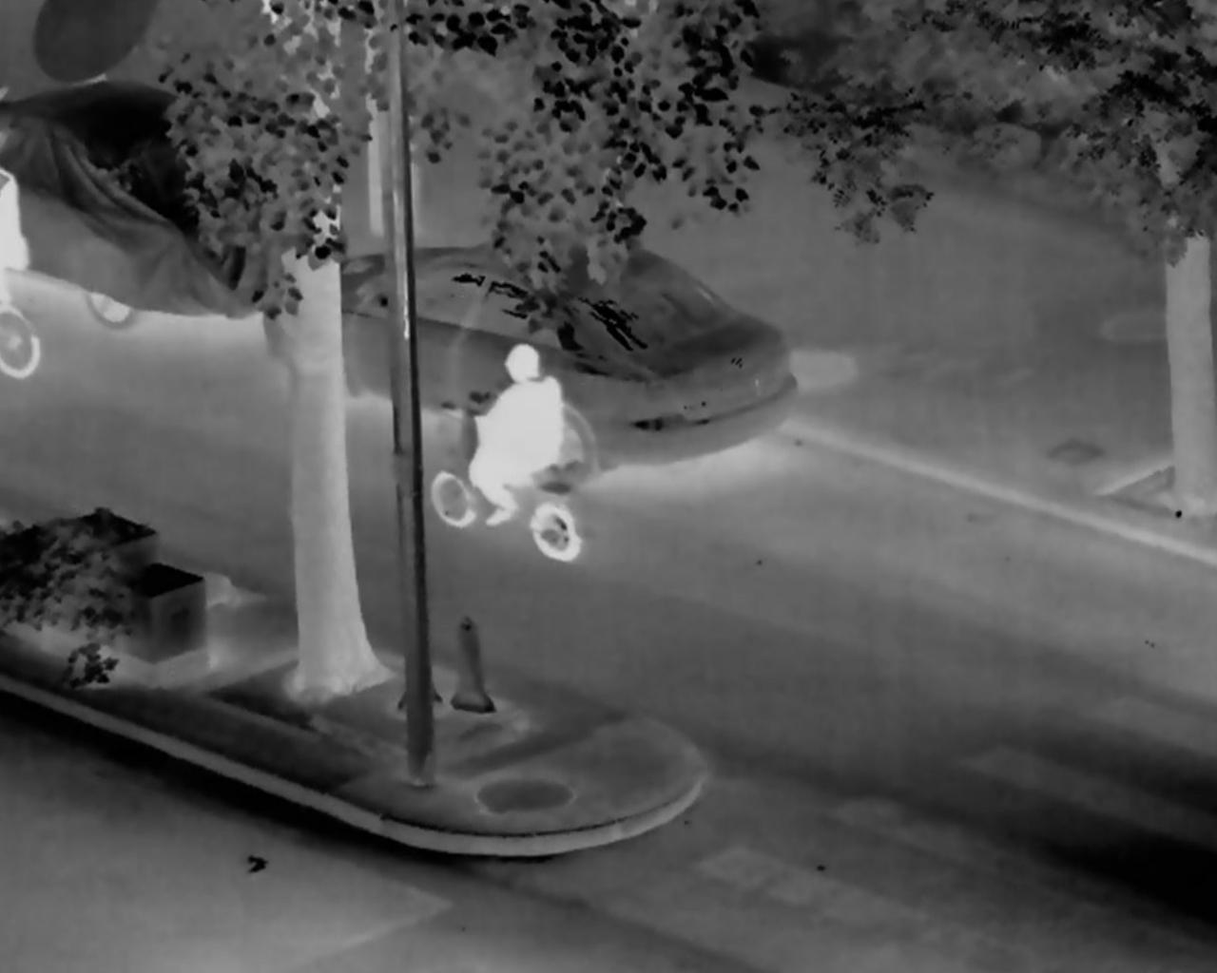person: (462, 343, 565, 522)
